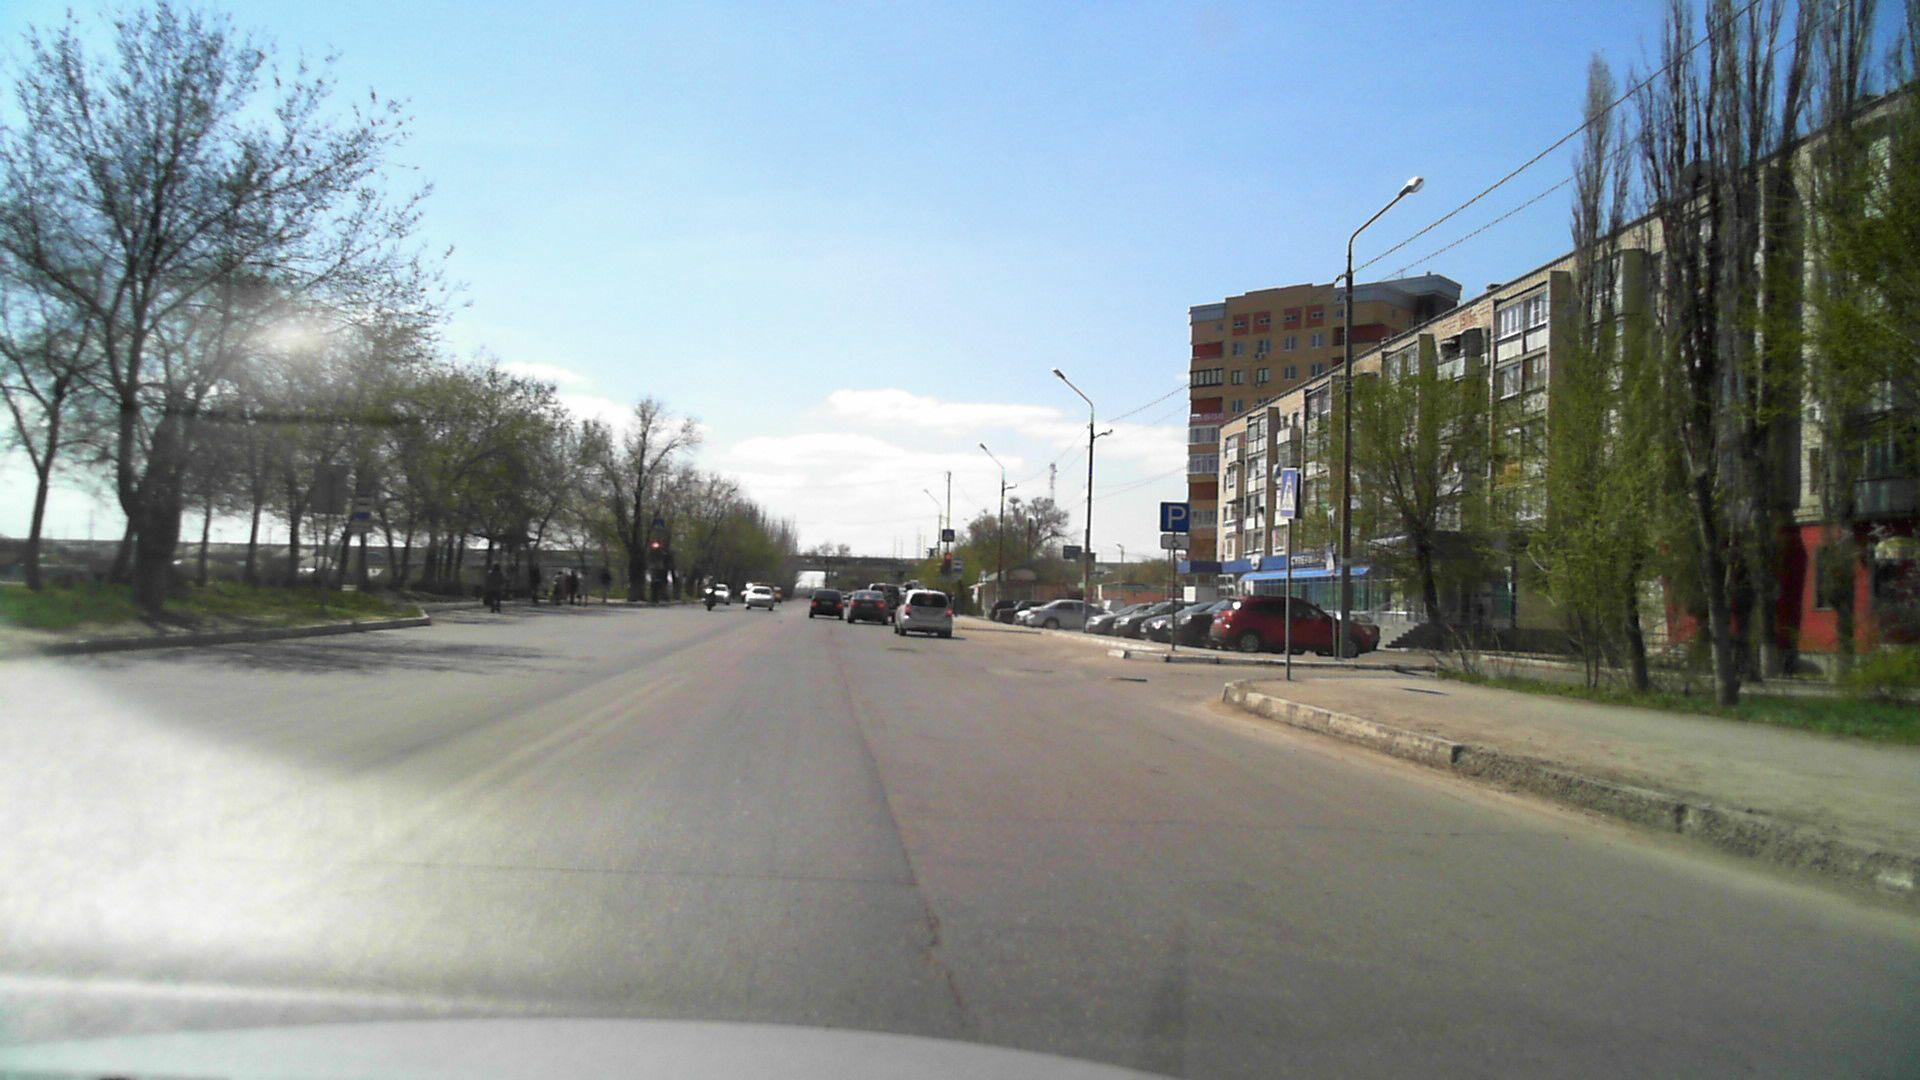5_16: (952, 556, 963, 571)
5_19_1: (942, 529, 956, 543)
5_19_2: (1280, 468, 1296, 516), (650, 518, 665, 530)
6_4: (1160, 501, 1189, 533)
8_17: (1160, 534, 1189, 550)
